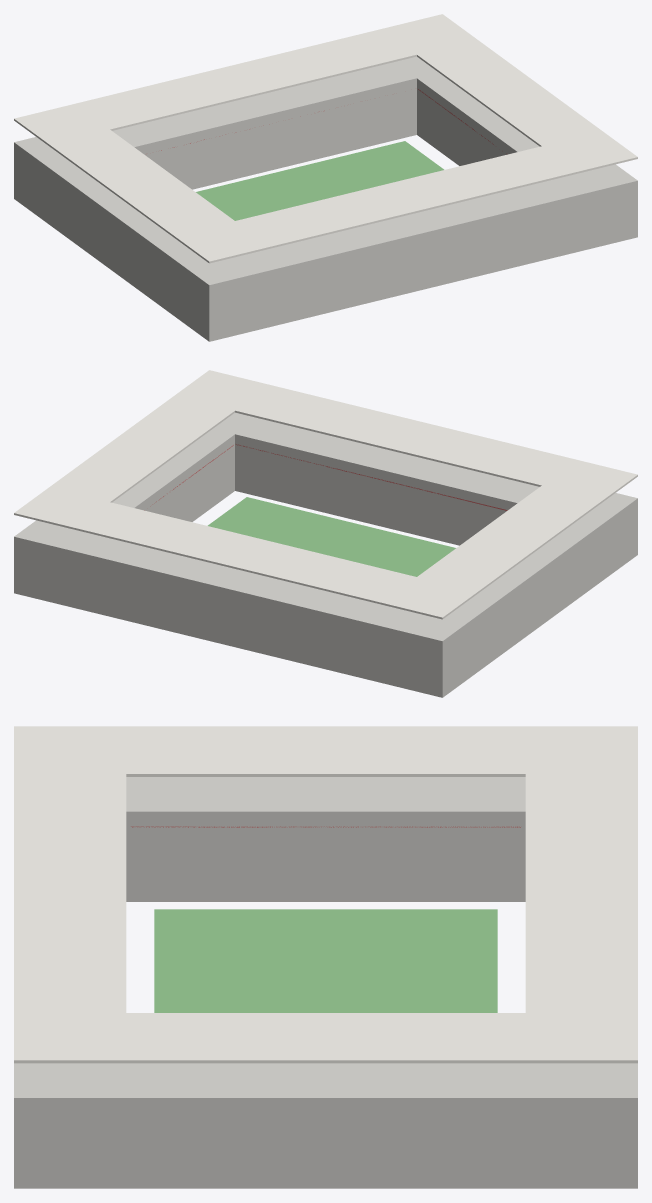
The model's file is basel-st-jakob-park.glb.
3 renders of one model, top to bottom at view 1: azimuth 30°, elevation 25°; view 2: azimuth 150°, elevation 25°; view 3: azimuth 270°, elevation 25°, orthographic. The views are drawn at different scales.
Parts seen in each view (by area): view 1: building; view 2: building; view 3: building.
Part boxes in pixels (x1,y1,x2,y2): building: (14,14,637,341); building: (14,370,637,697); building: (14,726,637,1188).
Size of the model in its own units: 190 by 34 by 150.
